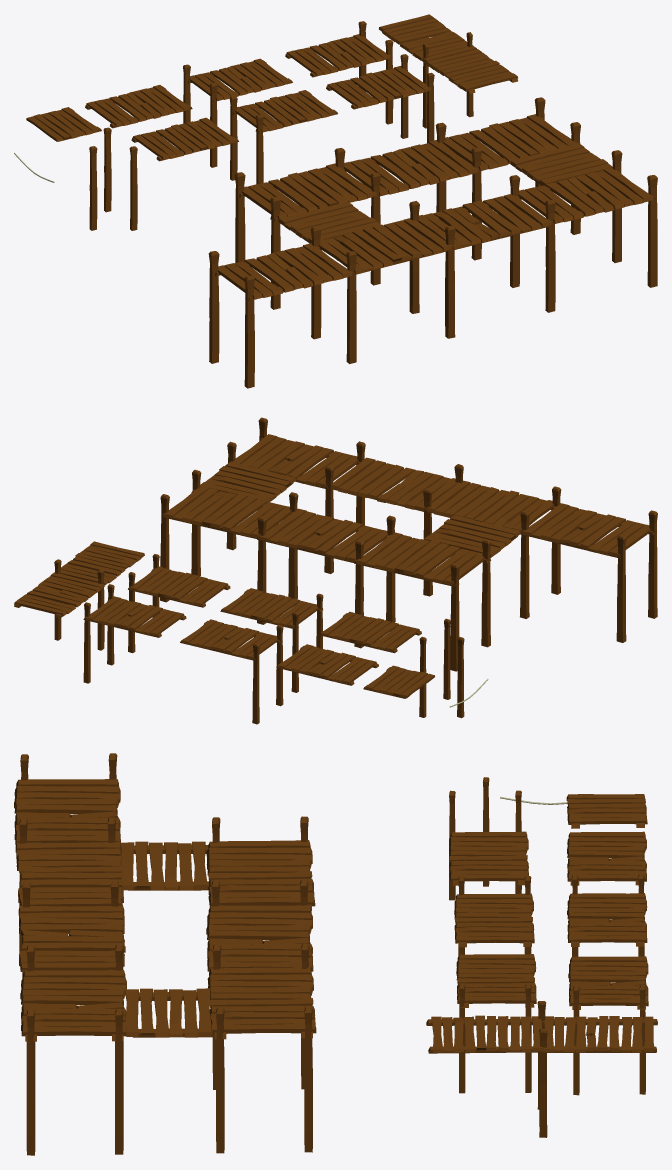
The model's file is Lowpoly_WoodenDocks.fbx.
3 views of the same model, one above another, from view 1: azimuth 30°, elevation 25°; view 2: azimuth 150°, elevation 25°; view 3: azimuth 270°, elevation 25° (orthographic). The views are drawn at different scales.
Visible parts, largest first — view 1: Dockv2_Complete, Dockv2_Platform_Double, Dockv2_Platform_posts_left, Dockv2_Platform_posts_right, Dockv2_Platform_posts_left_broken, Dockv2_Platform_posts_right_broken, Dockv2_Platform, Dockv2_Platform_broken, Dockv2_half_platform, Dockv2_Double_posts, Dockv2_Single_post; view 2: Dockv2_Complete, Dockv2_Platform_Double, Dockv2_Platform_posts_left_broken, Dockv2_Platform_posts_right_broken, Dockv2_Platform_posts_left, Dockv2_Platform_posts_right, Dockv2_Platform, Dockv2_Platform_broken, Dockv2_half_platform, Dockv2_Double_posts, Dockv2_Single_post; view 3: Dockv2_Complete, Dockv2_Platform_Double, Dockv2_Platform_posts_right_broken, Dockv2_Platform_posts_right, Dockv2_Platform_posts_left_broken, Dockv2_Platform_posts_left, Dockv2_Platform, Dockv2_Platform_broken, Dockv2_half_platform, Dockv2_Double_posts.
Boxes of the visible parts, x1=… form: Dockv2_Complete: x1=208, y1=97, x2=657, y2=388; Dockv2_Platform_Double: x1=379, y1=14, x2=517, y2=128; Dockv2_Platform_posts_left: x1=229, y1=90, x2=337, y2=184; Dockv2_Platform_posts_right: x1=326, y1=54, x2=434, y2=143; Dockv2_Platform_posts_left_broken: x1=183, y1=58, x2=292, y2=167; Dockv2_Platform_posts_right_broken: x1=285, y1=21, x2=393, y2=124; Dockv2_Platform: x1=131, y1=117, x2=238, y2=161; Dockv2_Platform_broken: x1=85, y1=85, x2=192, y2=128; Dockv2_half_platform: x1=26, y1=107, x2=101, y2=141; Dockv2_Double_posts: x1=103, y1=127, x2=137, y2=230; Dockv2_Single_post: x1=89, y1=146, x2=97, y2=230; Dockv2_Complete: x1=160, y1=417, x2=657, y2=671; Dockv2_Platform_Double: x1=14, y1=541, x2=144, y2=650; Dockv2_Platform_posts_left_broken: x1=180, y1=619, x2=283, y2=724; Dockv2_Platform_posts_right_broken: x1=83, y1=584, x2=186, y2=683; Dockv2_Platform_posts_left: x1=220, y1=588, x2=323, y2=692; Dockv2_Platform_posts_right: x1=128, y1=554, x2=230, y2=653; Dockv2_Platform: x1=319, y1=611, x2=421, y2=653; Dockv2_Platform_broken: x1=276, y1=644, x2=378, y2=685; Dockv2_half_platform: x1=363, y1=665, x2=434, y2=698; Dockv2_Double_posts: x1=419, y1=618, x2=450, y2=717; Dockv2_Single_post: x1=457, y1=637, x2=464, y2=718; Dockv2_Complete: x1=14, y1=753, x2=316, y2=1155; Dockv2_Platform_Double: x1=426, y1=1001, x2=657, y2=1137; Dockv2_Platform_posts_right_broken: x1=568, y1=956, x2=648, y2=1095; Dockv2_Platform_posts_right: x1=456, y1=954, x2=536, y2=1093; Dockv2_Platform_posts_left_broken: x1=567, y1=874, x2=647, y2=956; Dockv2_Platform_posts_left: x1=454, y1=875, x2=534, y2=955; Dockv2_Platform: x1=449, y1=831, x2=528, y2=885; Dockv2_Platform_broken: x1=567, y1=831, x2=646, y2=885; Dockv2_half_platform: x1=566, y1=794, x2=647, y2=828; Dockv2_Double_posts: x1=449, y1=790, x2=521, y2=900.
Bounding box in the file's own units: 1619 × 388 × 1593.
